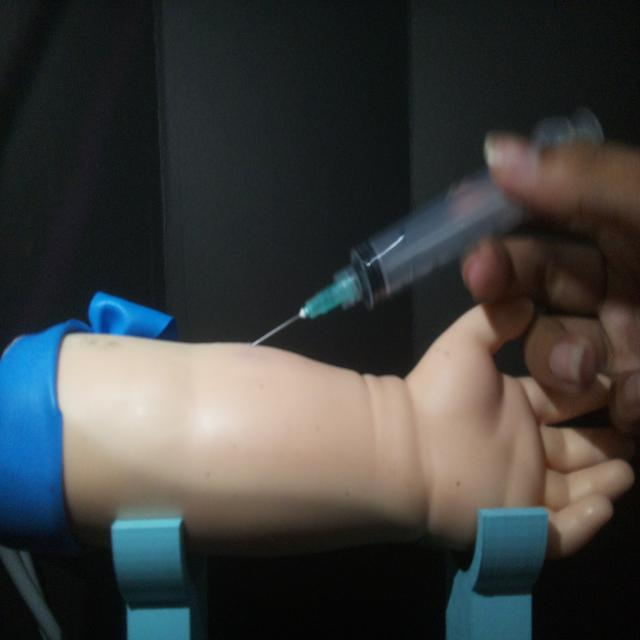28deg: (248, 97, 609, 352)
